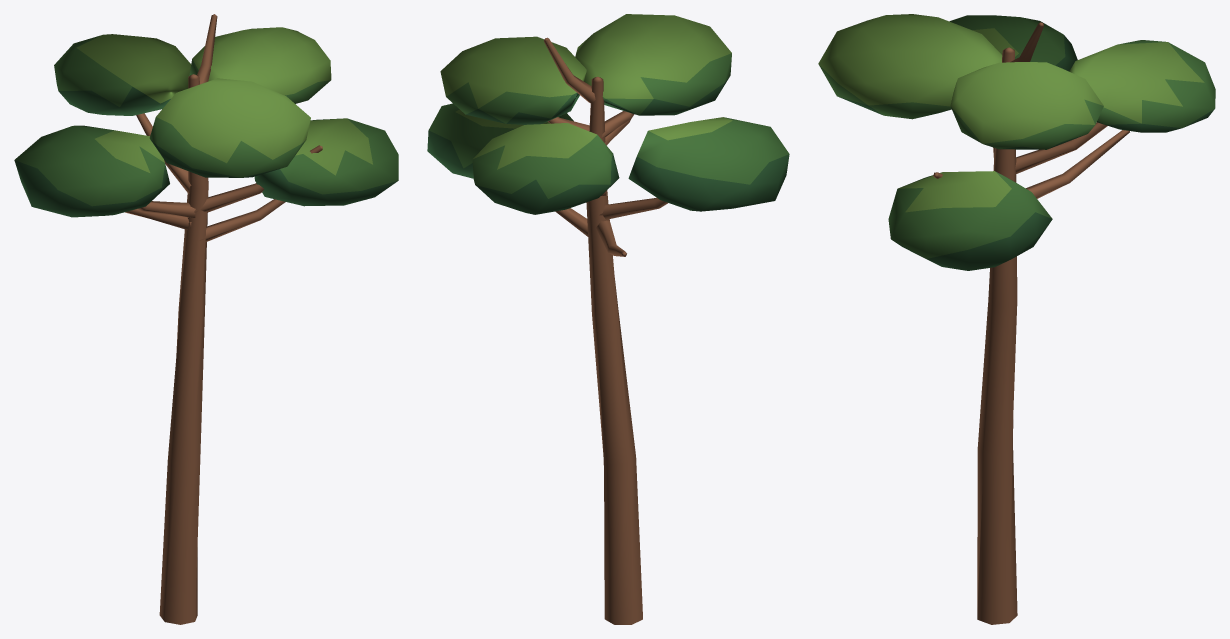
The model's file is PineA_FAR.glb.
3 views of the same model, side by side, from view 1: azimuth 30°, elevation 25°; view 2: azimuth 150°, elevation 25°; view 3: azimuth 270°, elevation 25° (orthographic). The views are drawn at different scales.
Visible parts, largest first — view 1: PineA_FAR.needleLight, PineA_FAR.bark, PineA_FAR.needleMid, PineA_FAR.needleDark; view 2: PineA_FAR.needleLight, PineA_FAR.needleMid, PineA_FAR.bark, PineA_FAR.needleDark; view 3: PineA_FAR.needleLight, PineA_FAR.bark, PineA_FAR.needleMid, PineA_FAR.needleDark.
Boxes of the visible parts, box(x1,y1,x2,y2) form: PineA_FAR.needleLight: box(76, 27, 372, 175); PineA_FAR.bark: box(125, 14, 322, 624); PineA_FAR.needleMid: box(15, 35, 398, 206); PineA_FAR.needleDark: box(14, 70, 397, 217); PineA_FAR.needleLight: box(440, 14, 732, 169); PineA_FAR.needleMid: box(429, 53, 789, 198); PineA_FAR.bark: box(544, 37, 667, 624); PineA_FAR.needleDark: box(427, 77, 789, 214); PineA_FAR.needleLight: box(818, 14, 1204, 212); PineA_FAR.bark: box(933, 22, 1129, 624); PineA_FAR.needleMid: box(818, 15, 1215, 258); PineA_FAR.needleDark: box(839, 35, 1214, 270).
Bounding box in the file's own units: 20.28 × 32.27 × 18.65.
